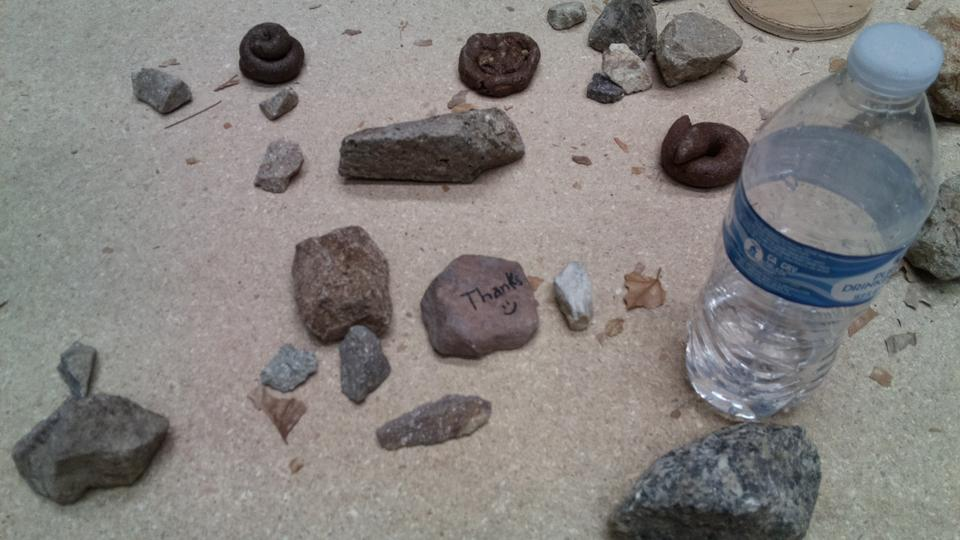poop: (658, 114, 751, 191), (456, 30, 542, 101), (237, 21, 306, 87)
